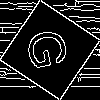G: (25, 25, 78, 72)
